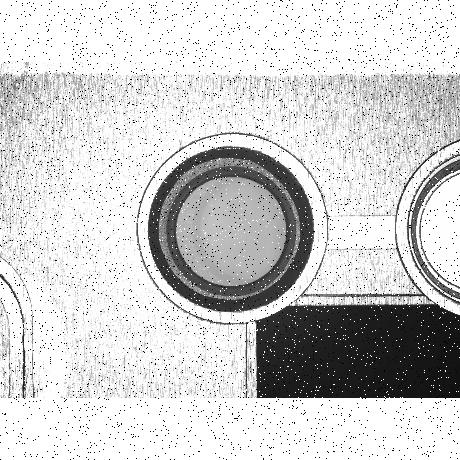Hole: (148, 147, 314, 313)
Hole2: (159, 160, 299, 300)
Hole3: (166, 168, 296, 296)
Hole4: (176, 178, 286, 286)
